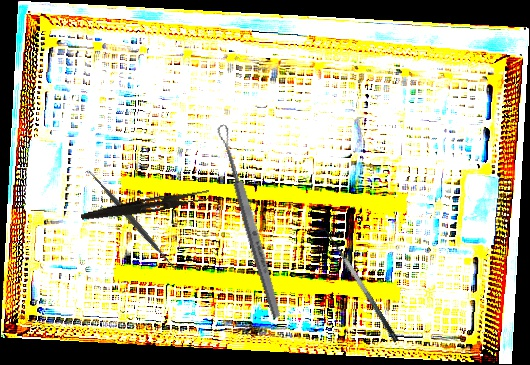Dressing Forceps: (80, 185, 211, 227)
Spatula Surgical: (82, 164, 184, 277), (315, 223, 400, 349)
Surgical Spoon: (215, 123, 284, 320)
